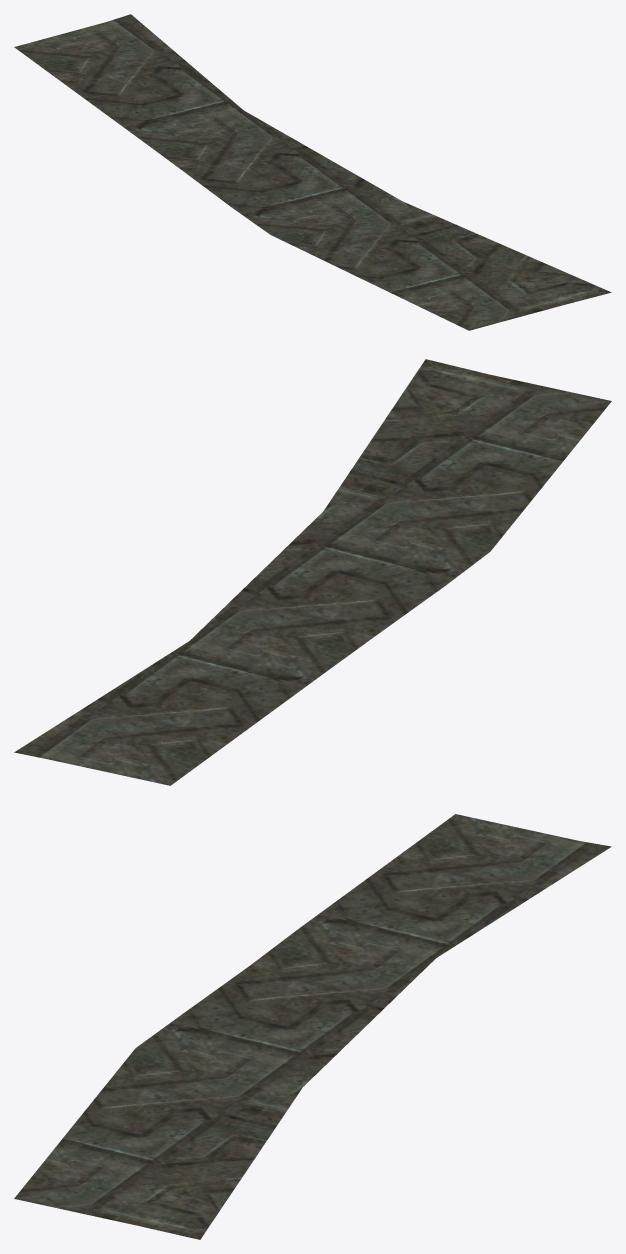
The model's file is CH09_SMAUG_PLAYSURFACE_LAIR501.fbx.
3 views of the same model, one above another, from view 1: azimuth 30°, elevation 25°; view 2: azimuth 150°, elevation 25°; view 3: azimuth 330°, elevation 25° (orthographic). The views are drawn at different scales.
Parts seen in each view (by area): view 1: CH09_SMAUG_PLAYSURFACE_LAIR501; view 2: CH09_SMAUG_PLAYSURFACE_LAIR501; view 3: CH09_SMAUG_PLAYSURFACE_LAIR501.
Boxes of the visible parts, x1,y1,x2,y2 form: CH09_SMAUG_PLAYSURFACE_LAIR501: (14, 14, 611, 330); CH09_SMAUG_PLAYSURFACE_LAIR501: (14, 359, 611, 785); CH09_SMAUG_PLAYSURFACE_LAIR501: (14, 814, 611, 1239).
Size of the model in its own units: 34728 by 154 by 124682.
1 material, 1 textured.
